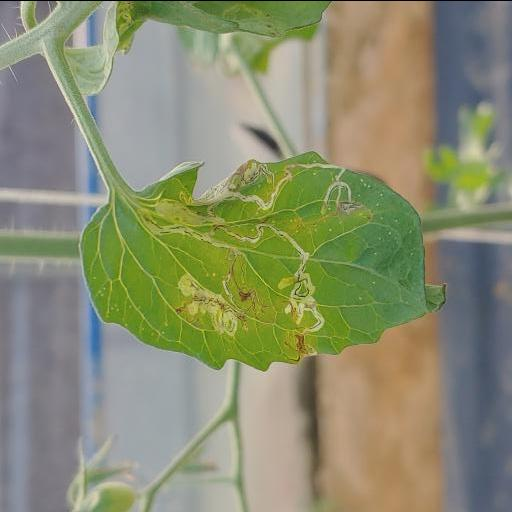disease_tomato: (78, 148, 447, 372)
